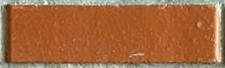redbrick: (1, 1, 225, 68)
